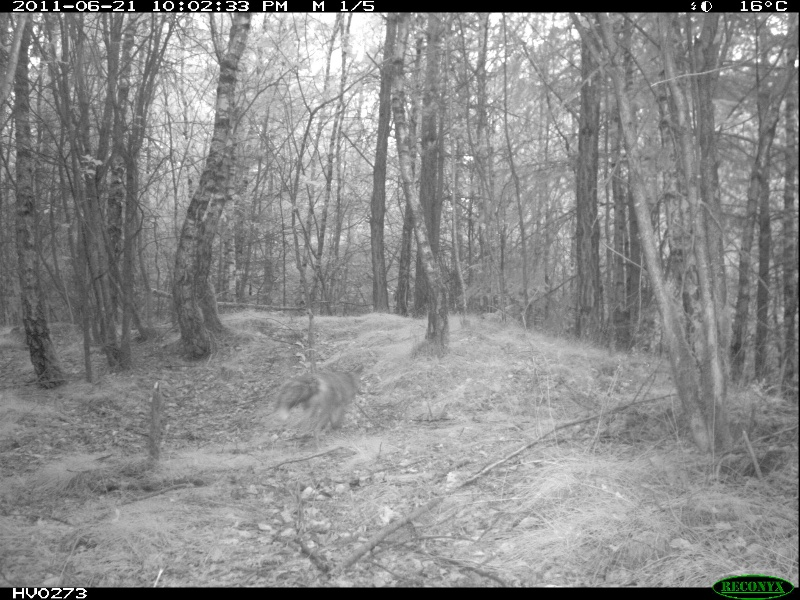fox: (275, 352, 375, 448)
